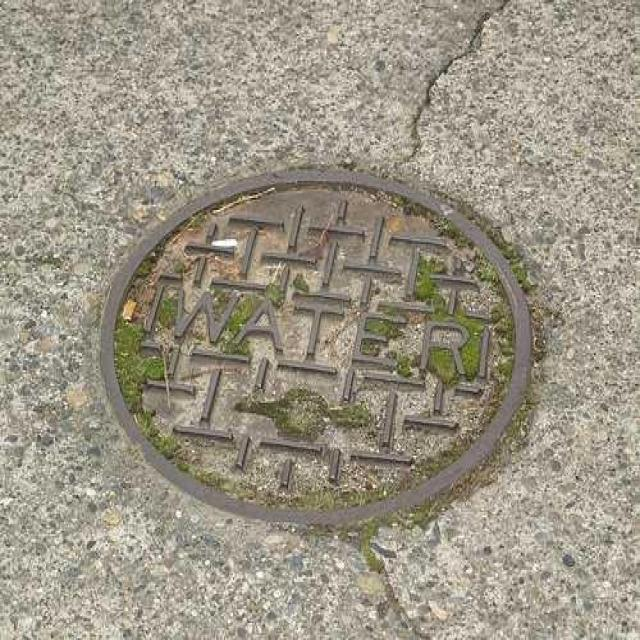manhole: (106, 168, 519, 522)
